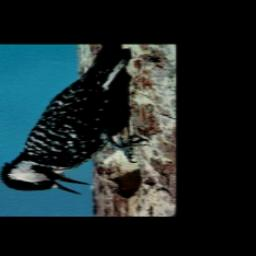Woodpecker: (0, 45, 151, 198)
